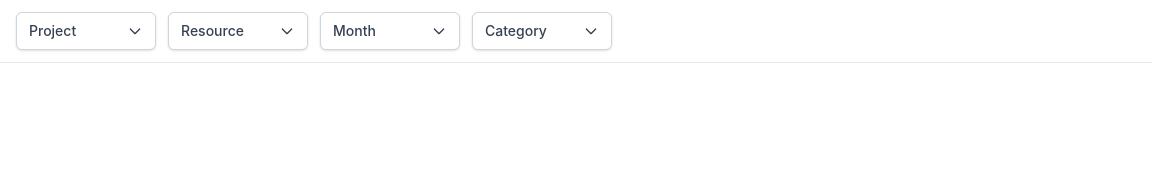
Scenario: FilterBar › dropdown interaction › closes dropdown when clicking outside
Open category dropdown
Click the button "Category" at (542, 31), box [472,12,612,50]
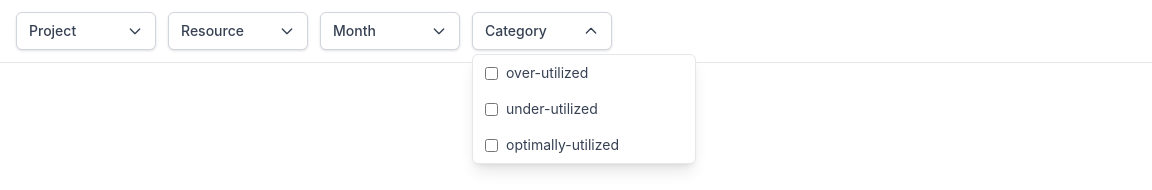
Expected: the text "over-utilized" is shown, [506,63,588,83]
Click outside the dropdown
Press the mouse on the element that starts with "Project" at (576, 32), box [0,0,1151,63]
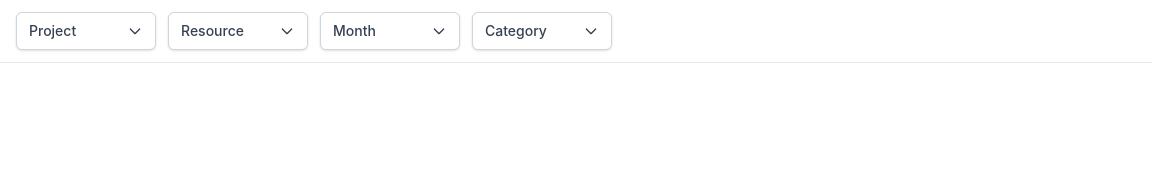
Expected: the text "over-utilized" is gone
